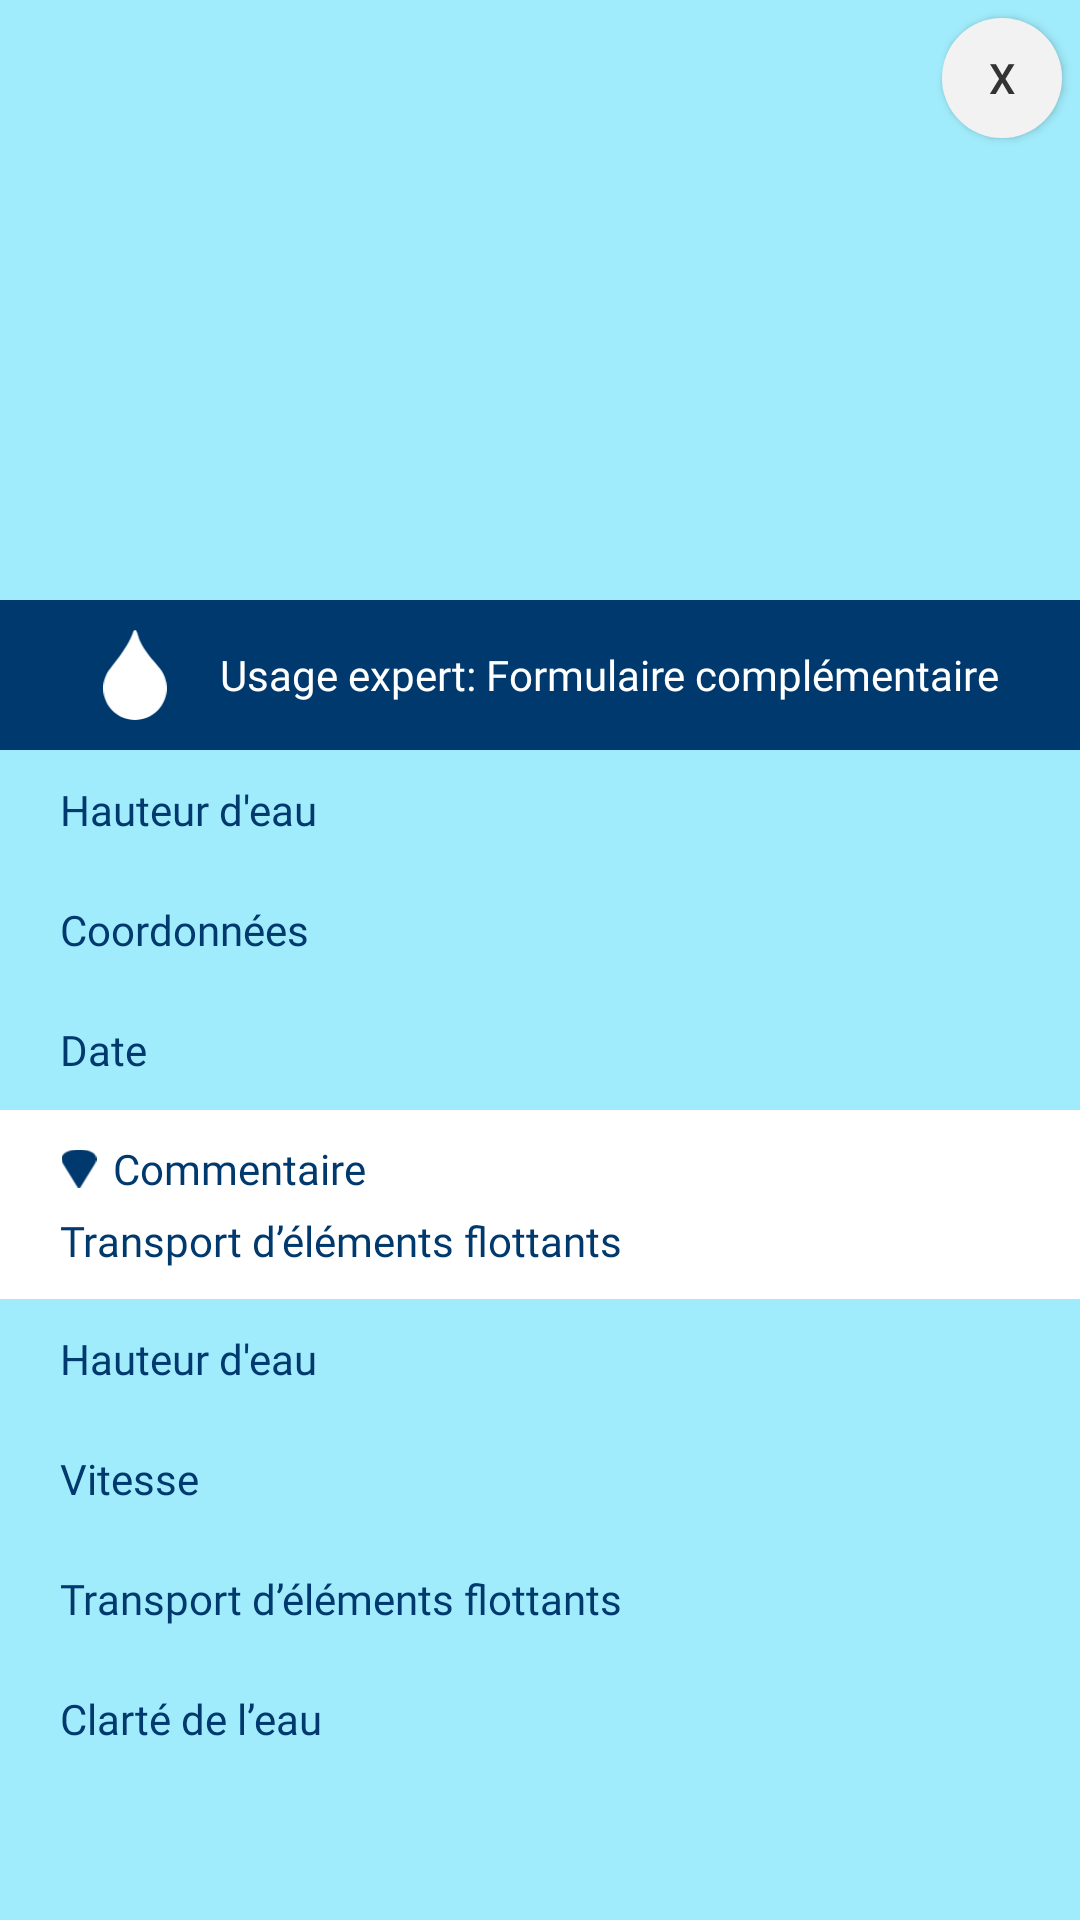

Point at icon controls on the screen. Image size 1080w x 1920h, points as (x,y).
goutte: (135,675)
